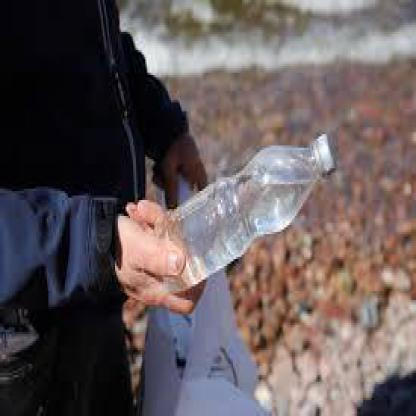Plastic: (129, 127, 334, 298)
